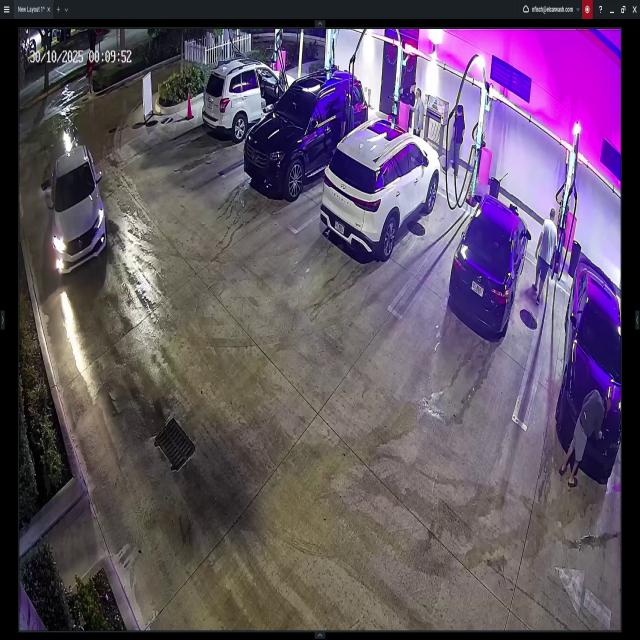Car: (320, 119, 440, 258), (243, 68, 368, 196), (555, 262, 622, 478), (445, 196, 530, 336), (202, 63, 298, 142), (50, 149, 106, 275)
